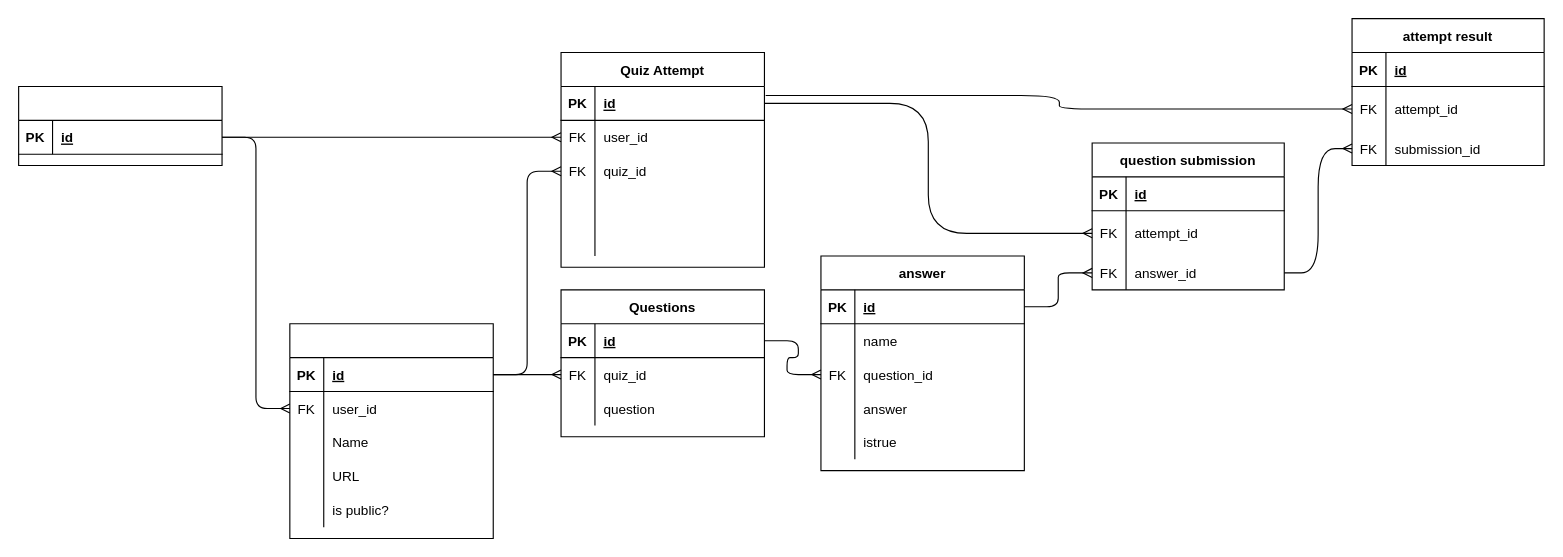
Some shapes in this 1563 by 557 pixel diagram are drawn without their labels. The box of each missing label's shape, as (x1, y1, x2, y2) in pixels:
Quizzes: (289, 323, 493, 538)
Users: (18, 85, 222, 166)
